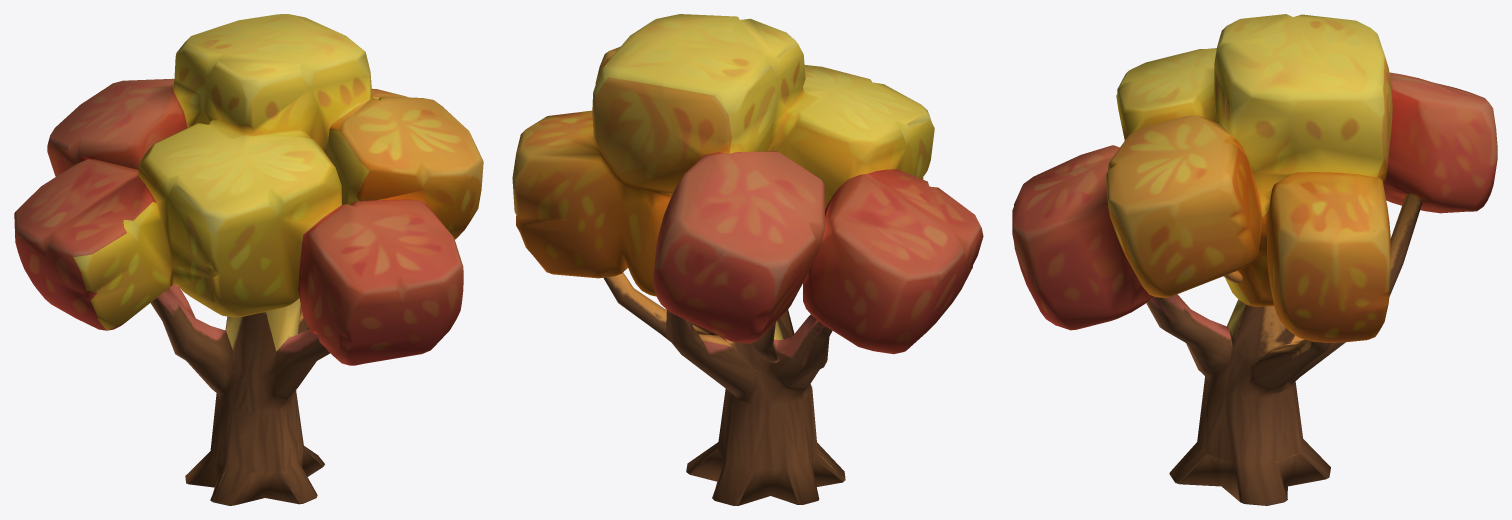
Rendered from r7b_raw.glb.
3 renders of one model, left to right at view 1: azimuth 30°, elevation 25°; view 2: azimuth 150°, elevation 25°; view 3: azimuth 270°, elevation 25°, orthographic. The views are drawn at different scales.
Parts seen in each view (by area): view 1: material; view 2: material; view 3: material.
Boxes of the visible parts, left/top/right/bottom form: material: left=14, top=14, right=483, bottom=505; material: left=512, top=14, right=983, bottom=505; material: left=1012, top=14, right=1497, bottom=505.
Size of the model in its own units: 1.9 by 1.9 by 1.87.
Materials: 1 (1 with a texture image).
